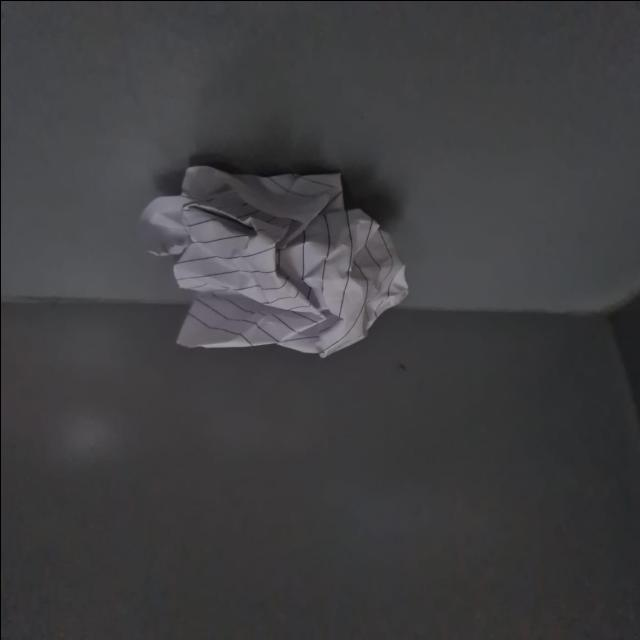kertas: (136, 159, 414, 362)
